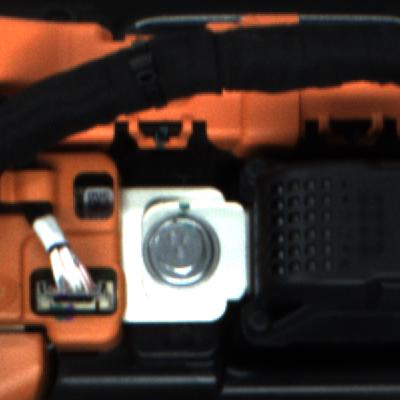nut_b: (146, 207, 224, 289)
